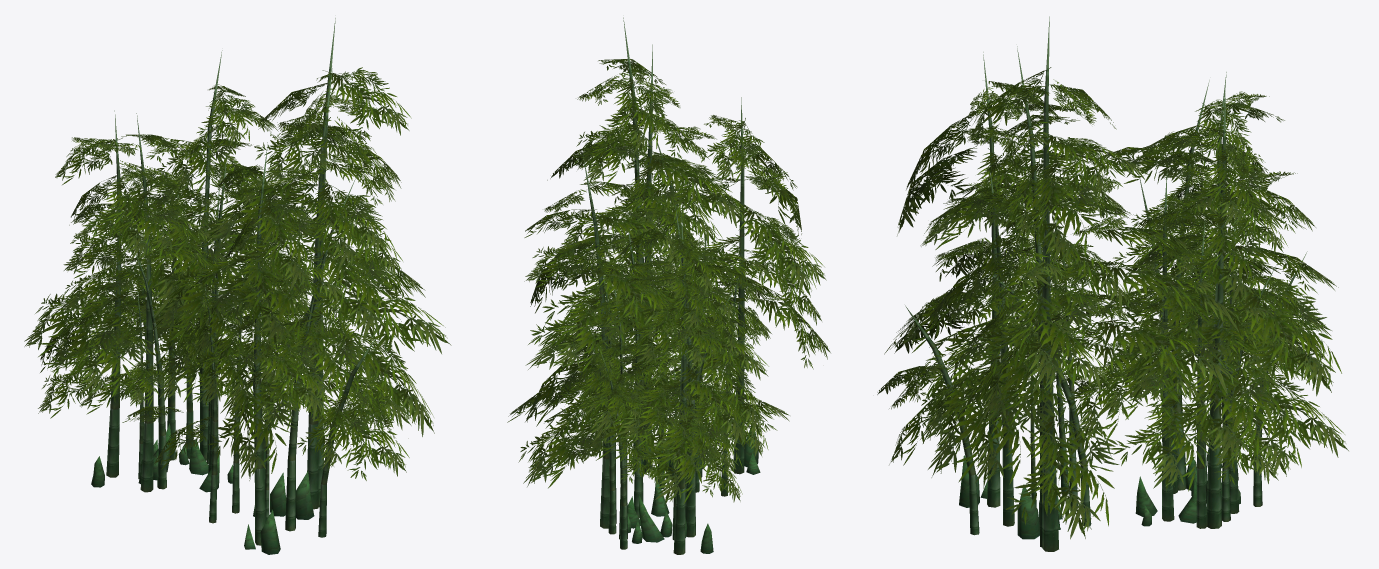
3 views of the same model, side by side, from view 1: azimuth 30°, elevation 25°; view 2: azimuth 150°, elevation 25°; view 3: azimuth 270°, elevation 25° (orthographic). The views are drawn at different scales.
Parts seen in each view (by area): view 1: ZL1_21; view 2: ZL1_21; view 3: ZL1_21.
Boxes of the visible parts, bbox=[...] form: ZL1_21: bbox=[24, 18, 451, 554]; ZL1_21: bbox=[507, 17, 830, 554]; ZL1_21: bbox=[877, 16, 1348, 551].
Bounding box in the file's own units: 599 × 842 × 696.
